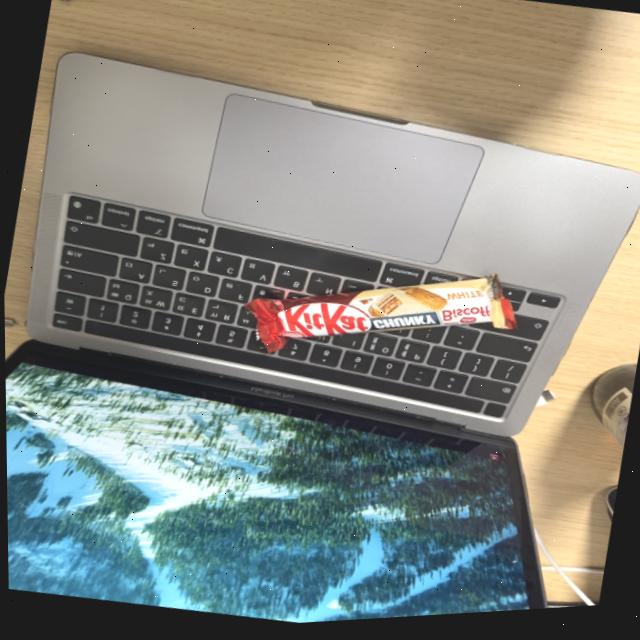chocolate: (227, 234, 524, 401)
